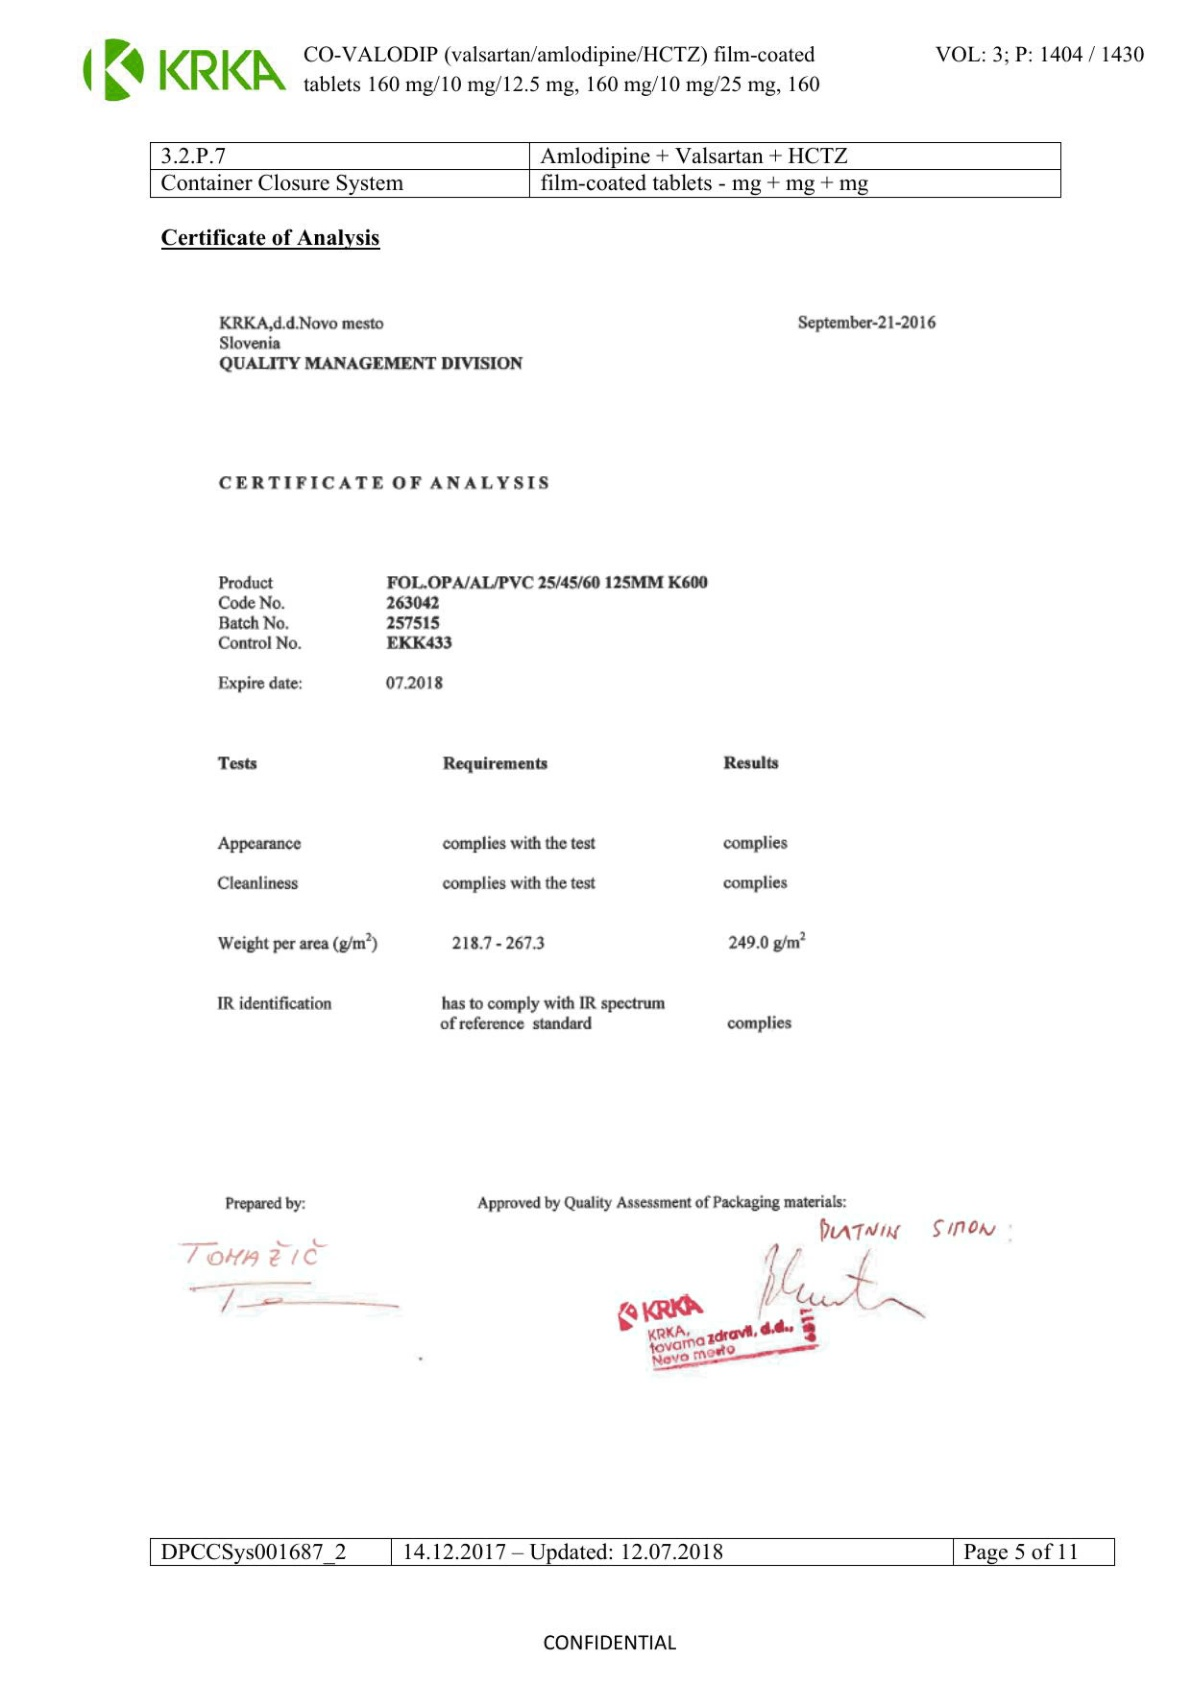full_lined: (148, 141, 1063, 199), (150, 1537, 1116, 1567)
nolines: (212, 748, 808, 1042), (212, 571, 713, 694)
